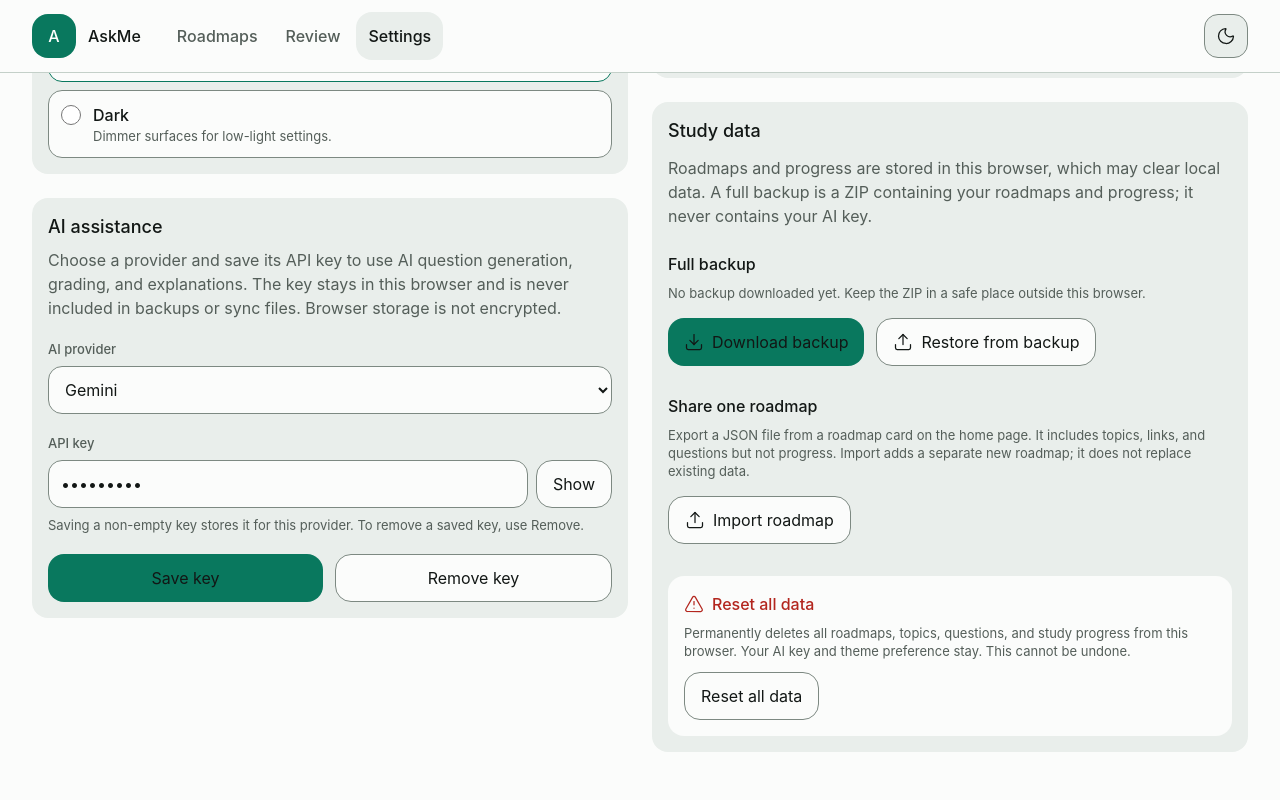
Test: SettingsPage › confirms before removing a saved AI key
(page scrolled)
Step 1. Click the button "Remove key" → click(474, 578), box top-left (335, 554), bottom-right (612, 602)
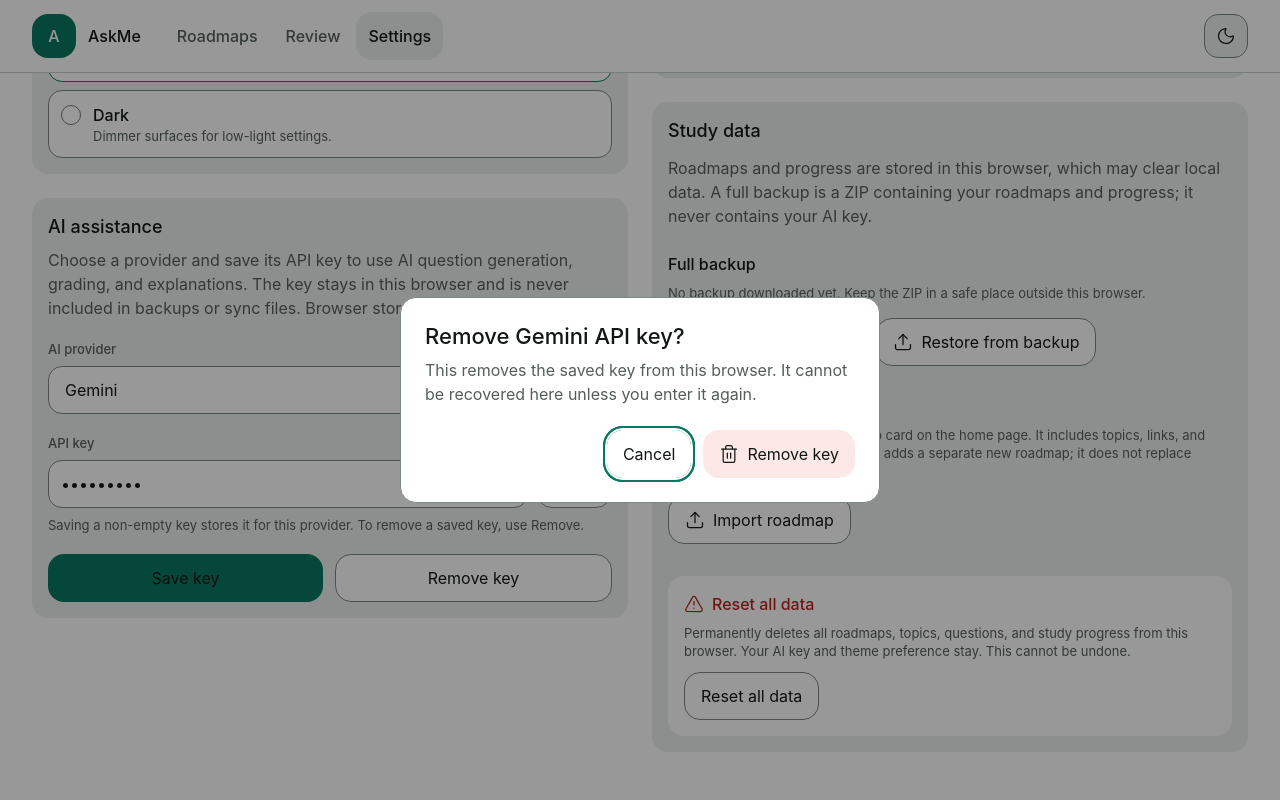
Expected: the dialog shows "cannot be recovered here unless you enter it again", top-left (425, 360), bottom-right (847, 404)
Step 2. Click the button "Remove key" → click(779, 454), box top-left (703, 430), bottom-right (855, 478)
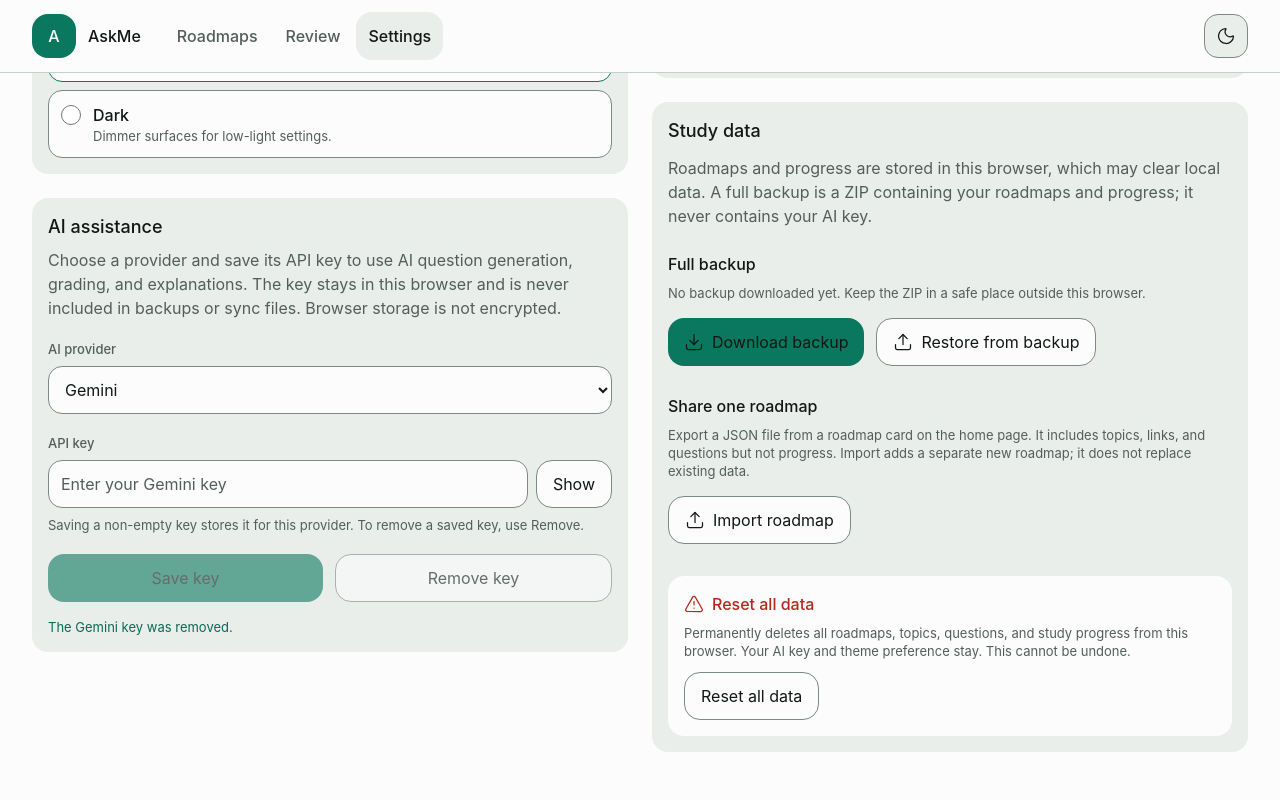
Expected: the text "The Gemini key was removed." is shown, top-left (48, 619), bottom-right (233, 635)
